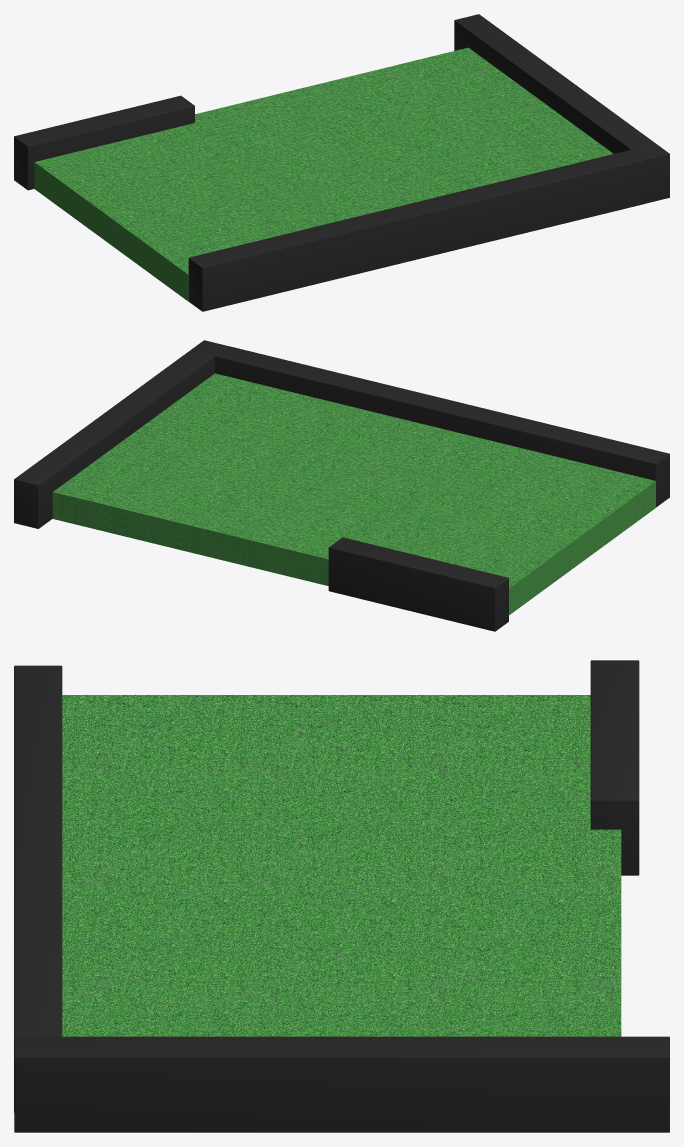
Rendered from R_TurnSec.fbx.
3 renders of one model, top to bottom at view 1: azimuth 30°, elevation 25°; view 2: azimuth 150°, elevation 25°; view 3: azimuth 270°, elevation 25°, orthographic. The views are drawn at different scales.
Parts seen in each view (by area): view 1: Floor_1, L_Wall, Back, R_Wall; view 2: Floor_1, L_Wall, R_Wall, Back; view 3: Floor_1, Back, L_Wall, R_Wall.
Boxes of the visible parts, x1,y1,x2,y2 form: Floor_1: (34, 47, 613, 301); L_Wall: (188, 149, 646, 311); Back: (454, 14, 669, 203); R_Wall: (14, 95, 194, 190); Floor_1: (52, 373, 655, 615); L_Wall: (215, 346, 669, 507); R_Wall: (328, 537, 508, 631); Back: (14, 340, 227, 528); Floor_1: (62, 695, 621, 1036); Back: (14, 1036, 669, 1132); L_Wall: (14, 665, 62, 1112); R_Wall: (590, 660, 639, 875).
Size of the model in its own units: 214 by 19.01 by 149.
Materials: 2 (1 with a texture image).
